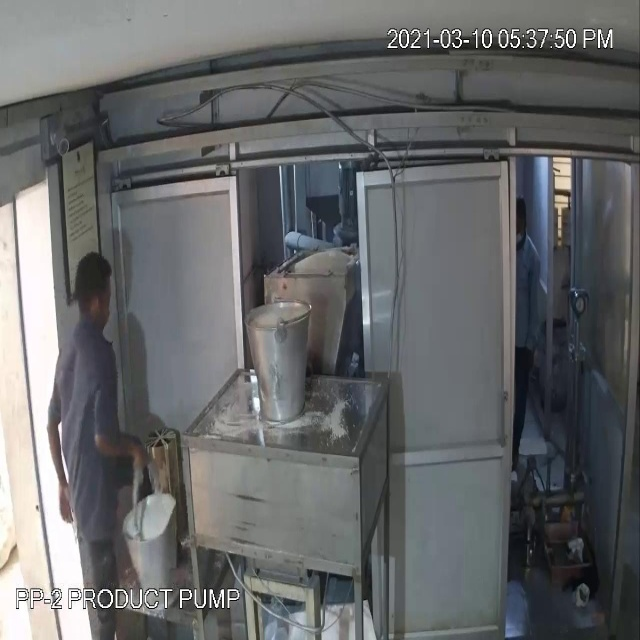Sin_guantes: (33, 402, 86, 523), (89, 415, 149, 492)
